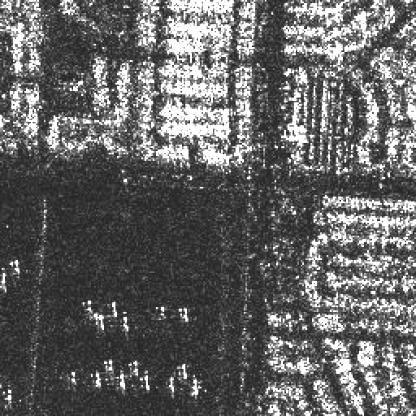airplane: (164, 374, 179, 396), (187, 375, 201, 395), (138, 372, 154, 388), (93, 314, 107, 332), (152, 299, 166, 317), (78, 299, 94, 314), (176, 359, 188, 379), (117, 315, 130, 333), (106, 301, 118, 320), (176, 306, 190, 322), (6, 258, 20, 272), (128, 359, 140, 375), (0, 268, 10, 286), (115, 372, 127, 387), (90, 371, 102, 385), (102, 356, 114, 369), (1, 388, 12, 402), (68, 367, 78, 382)
